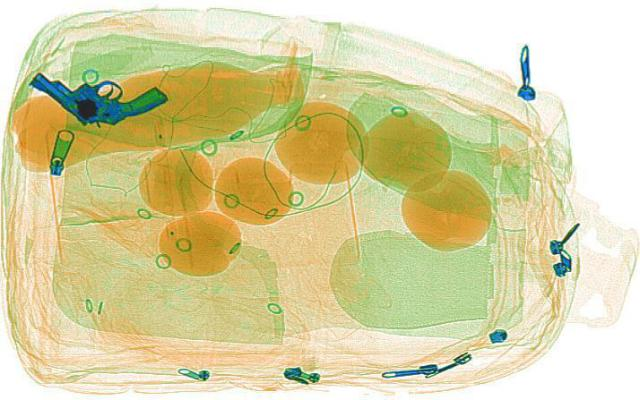Gun: (3, 50, 176, 139)
